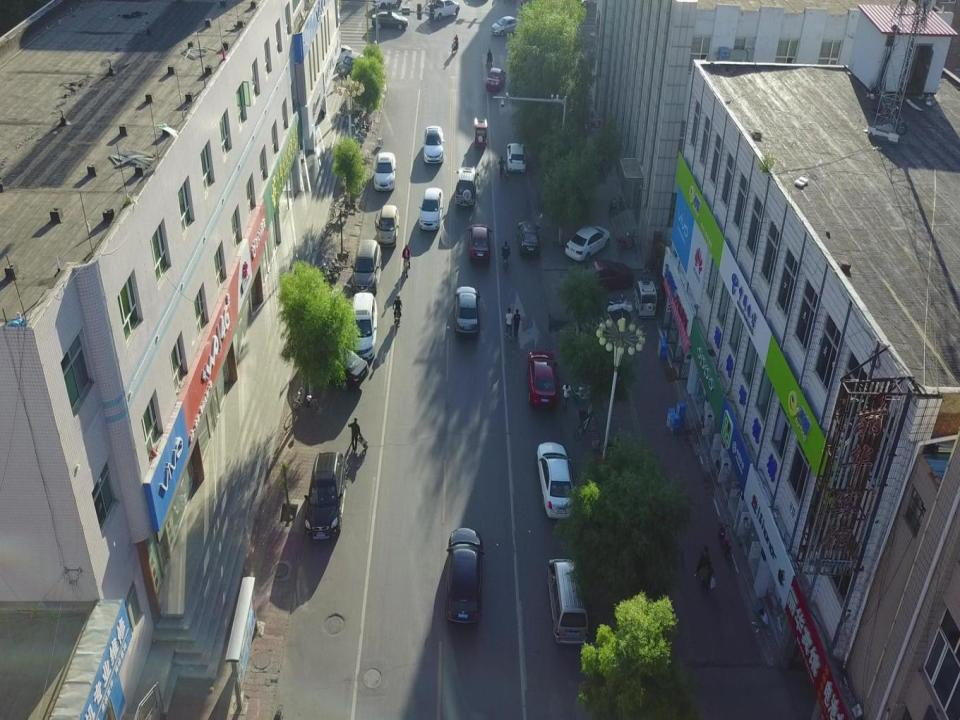car: (444, 527, 484, 629), (305, 451, 345, 540), (536, 441, 574, 518), (316, 347, 368, 391), (349, 292, 377, 360), (526, 349, 558, 408), (566, 225, 611, 263), (352, 239, 381, 294), (578, 261, 633, 288), (455, 285, 480, 336), (374, 204, 399, 248), (419, 187, 444, 231), (466, 222, 491, 265), (633, 278, 657, 319), (456, 167, 480, 205), (422, 125, 444, 164), (374, 153, 396, 191), (336, 53, 368, 77), (517, 221, 540, 254), (373, 10, 408, 30), (492, 14, 522, 37), (321, 46, 353, 67), (506, 142, 528, 172), (486, 67, 506, 91)
truck: (425, 0, 461, 21)
van: (546, 559, 590, 644)
